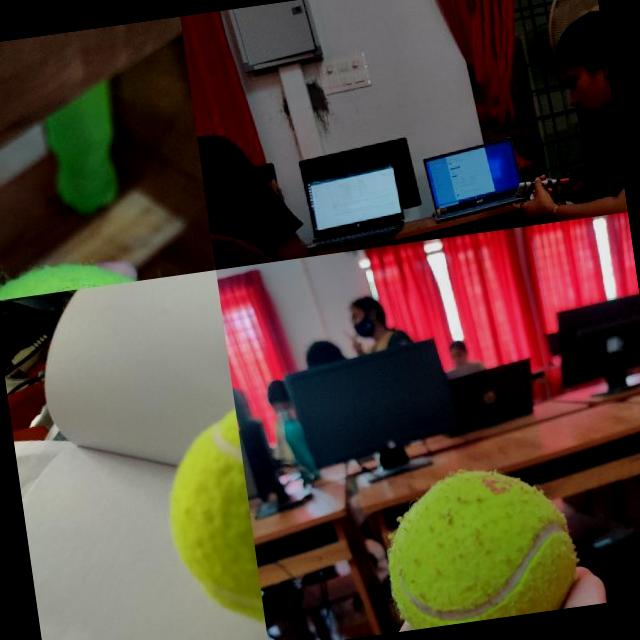Tennis Ball: (375, 456, 582, 632), (152, 401, 266, 640)
